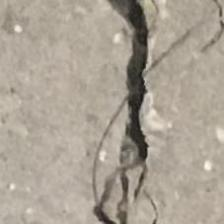Crack: (86, 0, 196, 224)
